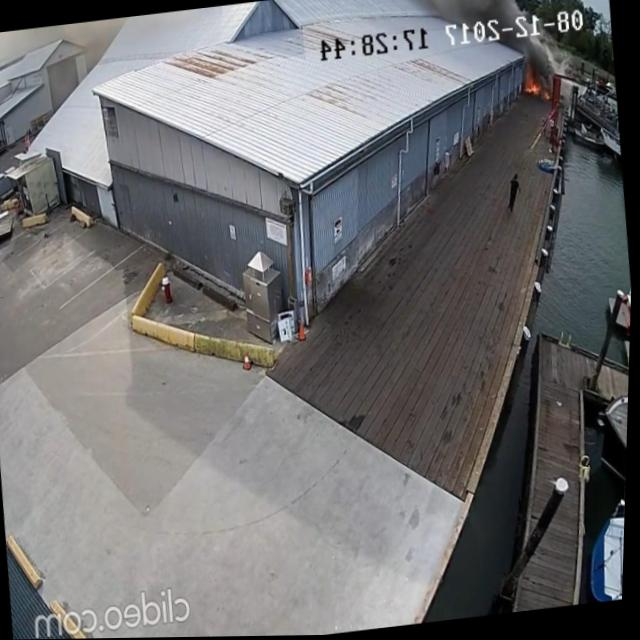fire: (522, 78, 549, 99)
